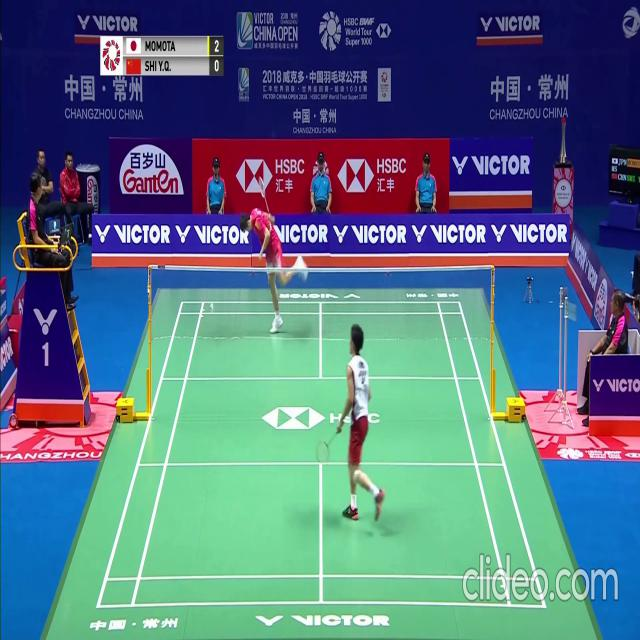Shuttlecock: (209, 302, 214, 310)
